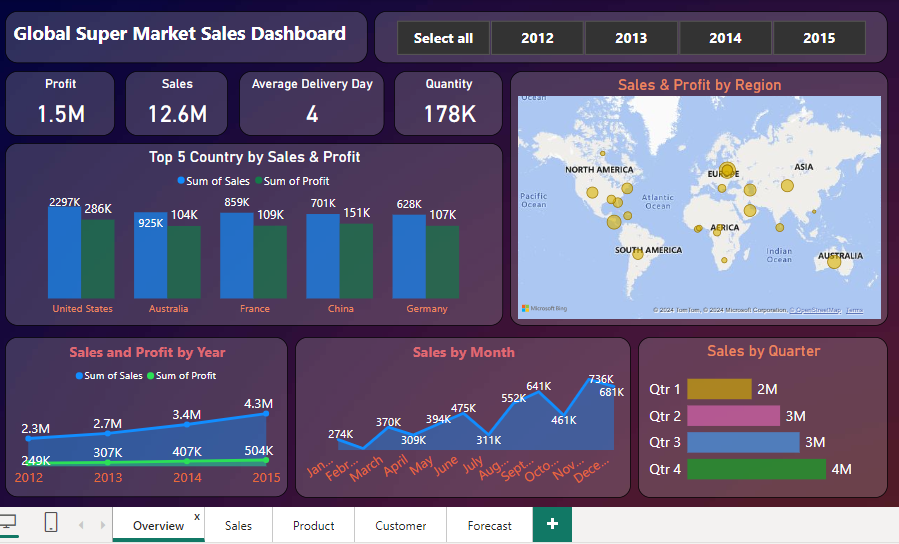

What the dashboard file says about the page in this screenshot:
{"tool":"powerbi","page":{"name":"Overview","canvas":[1280,720],"ordinal":0},"visuals":[{"type":"textbox","box":[10.1,16.8,514,73.9],"z":0},{"type":"slicer","fields":{"Values":["Orders.Order Date.Variation.Date Hierarchy.Year"]},"box":[533.5,17.2,728,74.4],"z":1000},{"type":"card","title":"Profit","fields":{"Values":["Sum(Orders.Profit)"]},"box":[9.9,102,155.9,92.1],"z":2000},{"type":"card","title":"Quantity","fields":{"Values":["Sum(Orders.Quantity)"]},"box":[561.3,102,154.5,92.1],"z":3000},{"type":"card","title":"Sales","fields":{"Values":["Sum(Orders.Sales)"]},"box":[180,102,146,92.1],"z":4000},{"type":"lineChart","title":"Sales by Month","fields":{"Category":["Orders.Order Date.Variation.Date Hierarchy.Month"],"Y":["Sum(Orders.Sales)"]},"box":[420.9,479.1,476.2,228.2],"z":5000},{"type":"barChart","title":"Sales by Quarter","fields":{"Y":["Sum(Orders.Sales)"],"Category":["Orders.Order Date.Variation.Date Hierarchy.Quarter"]},"box":[907.1,479.1,354.3,228.2],"z":6000},{"type":"areaChart","title":"Sales and Profit by Year","fields":{"Category":["Orders.Order Date.Variation.Date Hierarchy.Year","Orders.Order Date.Variation.Date Hierarchy.Quarter","Orders.Order Date.Variation.Date Hierarchy.Month","Orders.Order Date.Variation.Date Hierarchy.Day"],"Y":["Sum(Orders.Sales)","Sum(Orders.Profit)"]},"box":[9.9,479.1,401.1,226.8],"z":7000},{"type":"lineClusteredColumnComboChart","title":"Top 5 Country by Sales & Profit","fields":{"Category":["Orders.Country"],"Y":["Sum(Orders.Sales)","Sum(Orders.Profit)"]},"box":[9.9,204.1,705.8,259.4],"z":8000},{"type":"map","title":"Sales & Profit by Region","fields":{"Category":["Orders.Region"],"Size":["Sum(Orders.Sales)"]},"box":[725.7,102,535.7,361.4],"z":9000},{"type":"card","title":"Average Delivery Day","fields":{"Values":["Orders.Avg Delivery Day"]},"box":[341.6,102,205.5,92.1],"z":10000}]}

Visuals, with their boxes on the page's 1280x720 design canvas (x1, y1, x2, y2). These are canvas units, not pixel positions in the 899x544 screenshot, which may show the page scaled, cropped or inside an application window:
textbox: (10,17,524,91)
slicer - Orders.Order Date.Variation.Date Hierarchy.Year: (534,17,1262,92)
"Profit" card: (10,102,166,194)
"Quantity" card: (561,102,716,194)
"Sales" card: (180,102,326,194)
"Sales by Month" lineChart: (421,479,897,707)
"Sales by Quarter" barChart: (907,479,1261,707)
"Sales and Profit by Year" areaChart: (10,479,411,706)
"Top 5 Country by Sales & Profit" lineClusteredColumnComboChart: (10,204,716,464)
"Sales & Profit by Region" map: (726,102,1261,463)
"Average Delivery Day" card: (342,102,547,194)
